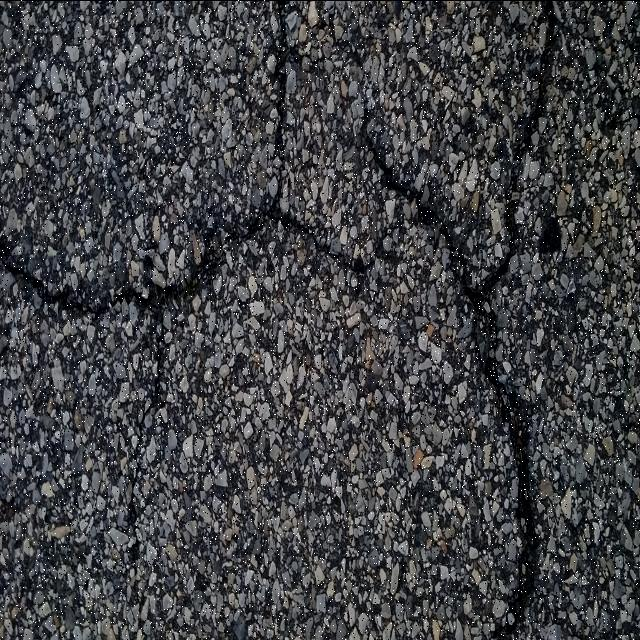Crack: (0, 0, 556, 640)
